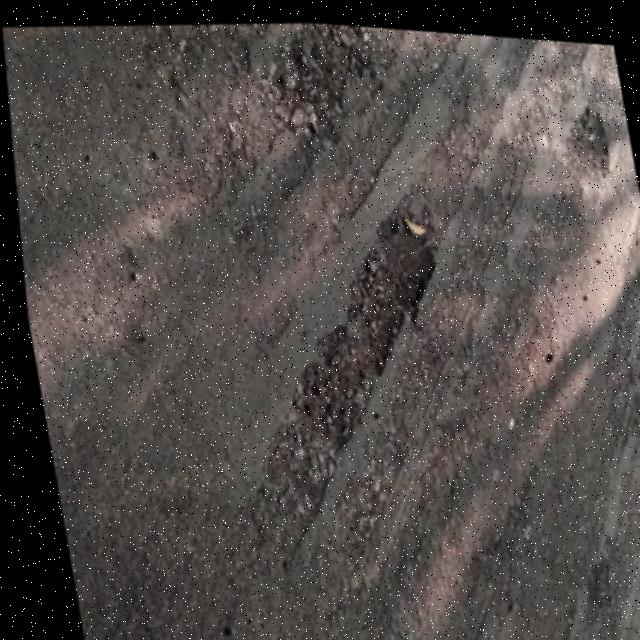Pothole: (249, 178, 467, 458), (254, 15, 393, 147), (550, 89, 618, 176), (229, 14, 305, 42)
